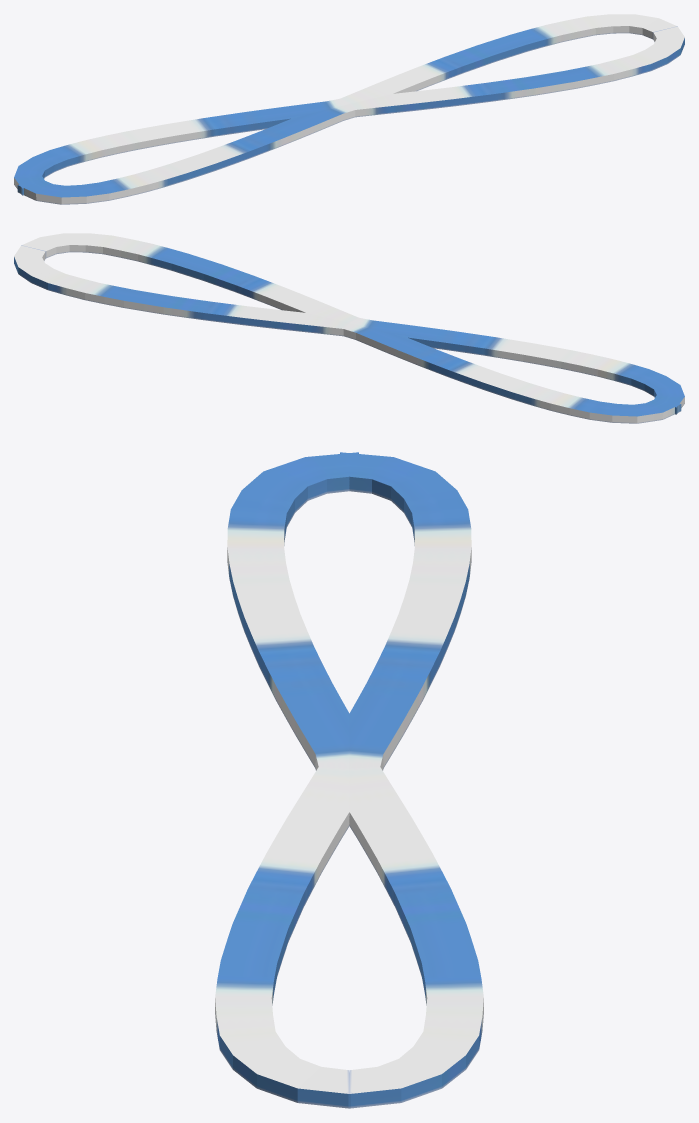
File: SWB_Figure_Eight_2.fbx
The picture shows the model from 3 angles, top to bottom: view 1: azimuth 30°, elevation 25°; view 2: azimuth 150°, elevation 25°; view 3: azimuth 270°, elevation 25°; orthographic projection. The views are drawn at different scales.
Visible parts, largest first — view 1: Cube; view 2: Cube; view 3: Cube.
Boxes of the visible parts, x1,y1,x2,y2 form: Cube: [14, 14, 684, 204]; Cube: [14, 233, 684, 423]; Cube: [215, 452, 483, 1108].
Bounding box in the file's own units: 193 × 2.75 × 34.13.
